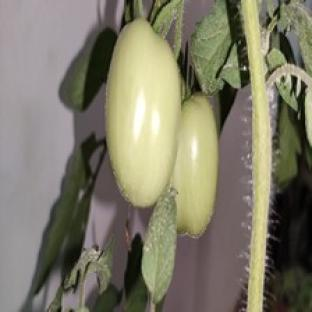Tomato: (106, 20, 181, 207), (172, 94, 218, 236)
